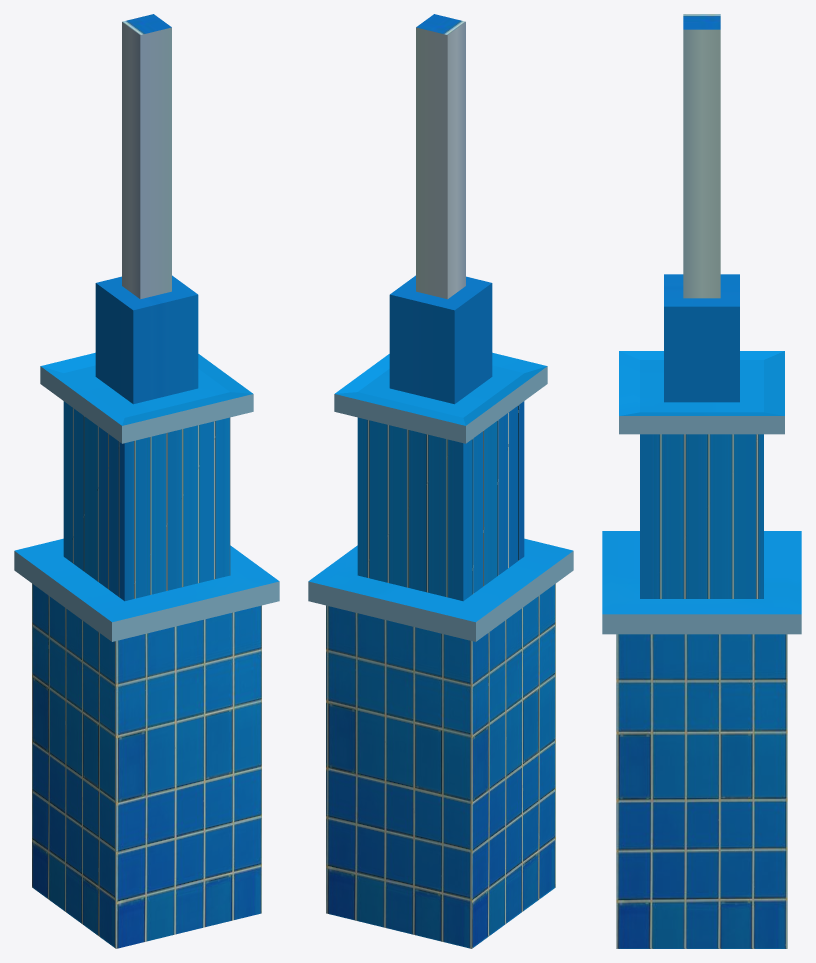
3 views of the same model, side by side, from view 1: azimuth 30°, elevation 25°; view 2: azimuth 150°, elevation 25°; view 3: azimuth 270°, elevation 25° (orthographic).
Parts seen in each view (by area): view 1: Tower; view 2: Tower; view 3: Tower.
Boxes of the visible parts, box(x1,y1,x2,y2) form: Tower: box(14, 14, 279, 948); Tower: box(308, 14, 573, 948); Tower: box(602, 14, 801, 948).
Size of the model in its own units: 1001 by 4999 by 1013.
